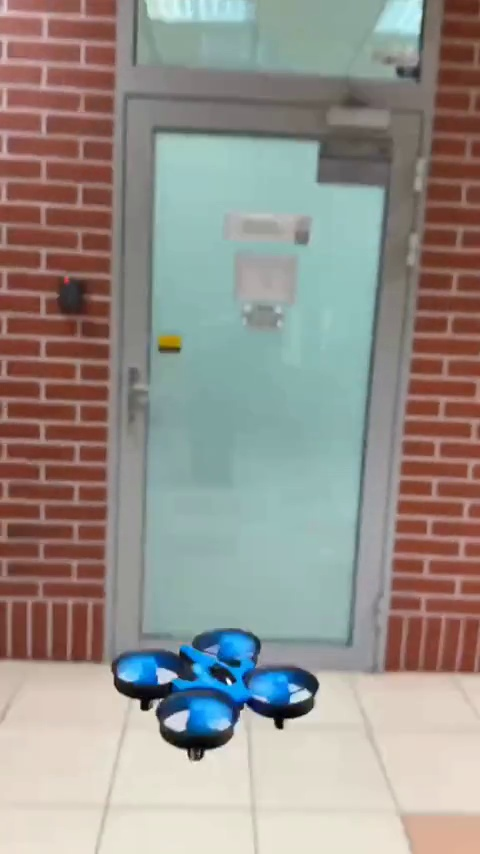drone: (110, 620, 322, 755)
